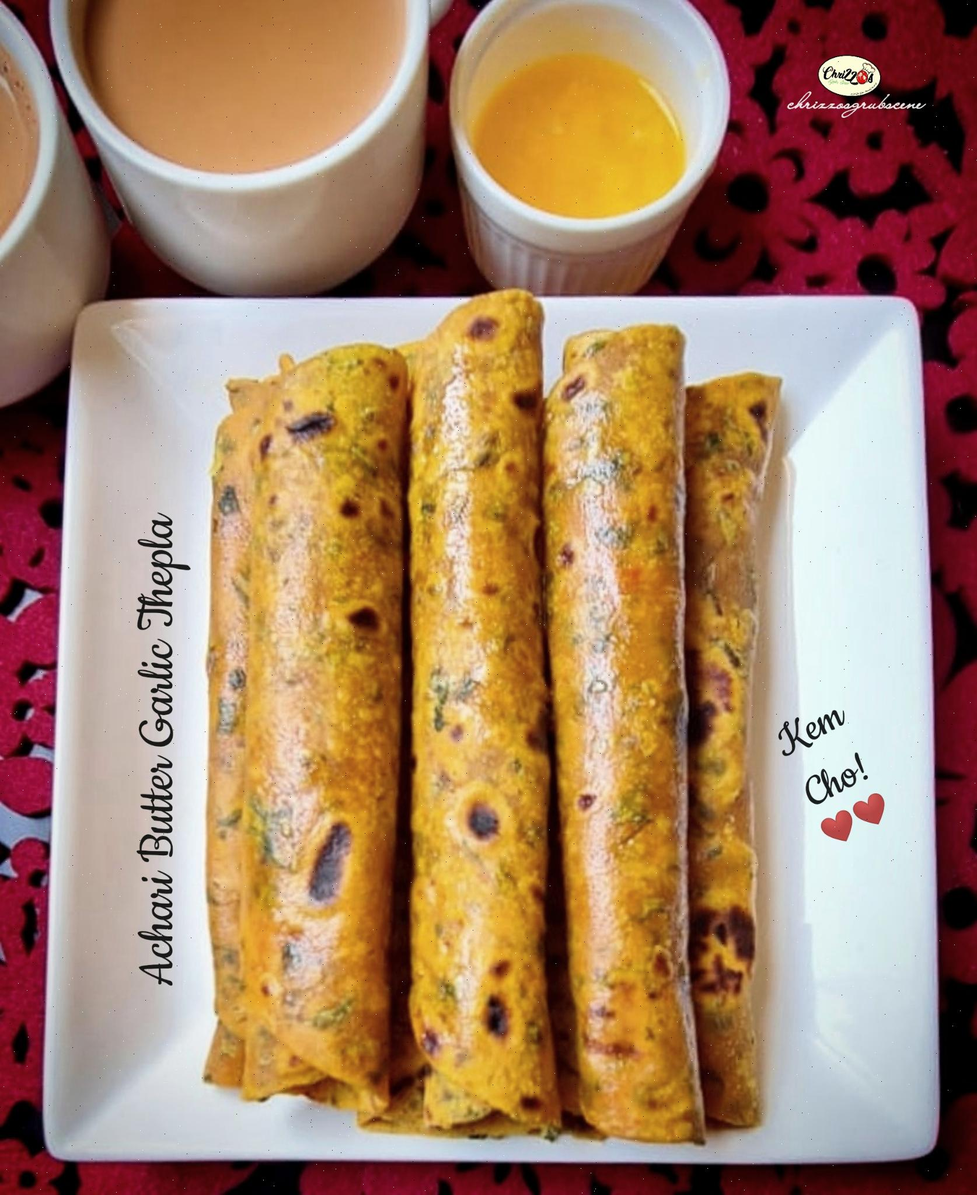thepla: (197, 288, 813, 1171)
